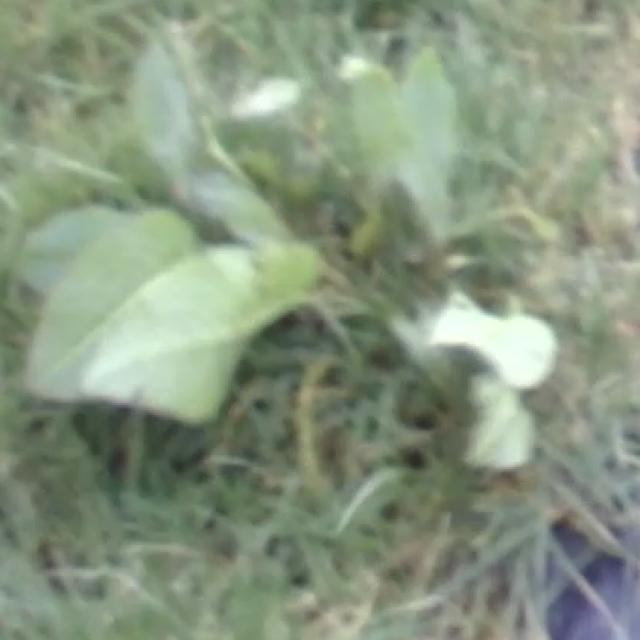organic waste: (0, 0, 544, 505)
